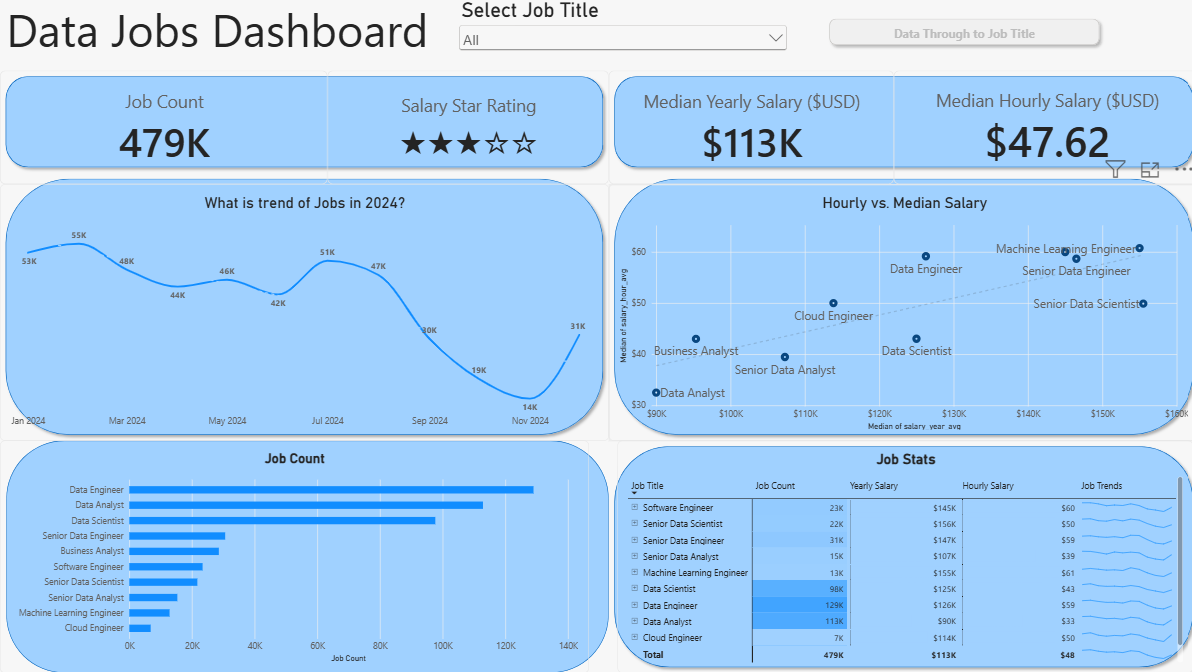

This screenshot's page, from the dashboard's own definition file:
{"tool":"powerbi","page":{"name":"Data Jobs Dashboard","canvas":[1920,1080],"ordinal":0},"visuals":[{"type":"shape","box":[0,116,974,164],"z":0,"group":"g1"},{"type":"group","id":"g1","title":"Background","box":[0,116,1920,964],"z":0},{"type":"textbox","box":[10,0,720,116],"z":1000},{"type":"shape","box":[974,116,946,164],"z":1000,"group":"g1"},{"type":"slicer","fields":{"Values":["job_postings_flat.job_title_short"]},"box":[730,0,534,86],"z":2000},{"type":"shape","box":[0,280,974,428],"z":2000,"group":"g1"},{"type":"cardVisual","fields":{"Data":["Median(job_postings_flat.salary_year_avg)"]},"box":[974,116,456,182],"z":3000},{"type":"shape","box":[974,280,946,428],"z":3000,"group":"g1"},{"type":"cardVisual","fields":{"Data":["Median(job_postings_flat.salary_hour_avg)"]},"box":[1430,116,490,182],"z":4000},{"type":"shape","box":[10,708,964,372],"z":4000,"group":"g1"},{"type":"cardVisual","fields":{"Data":["job_postings_flat.Salary Star Rating"]},"box":[524,116,450,182],"z":5000},{"type":"shape","box":[974,708,946,372],"z":5000,"group":"g1"},{"type":"cardVisual","fields":{"Data":["CountNonNull(job_postings_flat.job_title_short)"]},"box":[0,116,524,182],"z":6000},{"type":"lineChart","title":"What is trend of Jobs in 2024?","fields":{"Category":["job_postings_flat.job_posted_date.Variation.Date Hierarchy.Year","job_postings_flat.job_posted_date.Variation.Date Hierarchy.Quarter","job_postings_flat.job_posted_date.Variation.Date Hierarchy.Month","job_postings_flat.job_posted_date.Variation.Date Hierarchy.Day"],"Y":["CountNonNull(job_postings_flat.job_title_short)"]},"box":[0,298,974,410],"z":7000},{"type":"barChart","title":"Job Count","fields":{"Category":["job_postings_flat.job_title_short"],"Y":["CountNonNull(job_postings_flat.job_title_short)"]},"box":[0,708,942,372],"z":8000},{"type":"scatterChart","title":"Hourly vs. Median Salary","fields":{"Series":["job_postings_flat.job_title_short"],"X":["Median(job_postings_flat.salary_year_avg)"],"Y":["Median(job_postings_flat.salary_hour_avg)"]},"box":[974,298,946,410],"z":9000},{"type":"pivotTable","title":"Job Stats","fields":{"Rows":["job_postings_flat.job_title_short","job_postings_flat.job_posted_date.Variation.Date Hierarchy.Quarter"],"Values":["CountNonNull(job_postings_flat.job_title_short)","Median(job_postings_flat.salary_year_avg)","Median(job_postings_flat.salary_hour_avg)","SparklineData(CountNonNull(job_postings_flat.job_title_short)_[job_postings_flat.job_posted_date.Variation.Date Hierarch"]},"box":[988,708,922,372],"z":10000},{"type":"actionButton","box":[1318,24,450,60],"z":11000}]}

Visuals, with their boxes in screenshot pixels (x1, y1, x2, y2), scaled from the page's 1920x1080 canvas onto the 1192x672 screenshot:
shape: left=0, top=72, right=605, bottom=174
"Background" group: left=0, top=72, right=1191, bottom=671
textbox: left=6, top=0, right=453, bottom=72
shape: left=605, top=72, right=1191, bottom=174
slicer - job_postings_flat.job_title_short: left=453, top=0, right=785, bottom=54
shape: left=0, top=174, right=605, bottom=441
cardVisual - Median(job_postings_flat.salary_year_avg): left=605, top=72, right=888, bottom=185
shape: left=605, top=174, right=1191, bottom=441
cardVisual - Median(job_postings_flat.salary_hour_avg): left=888, top=72, right=1191, bottom=185
shape: left=6, top=441, right=605, bottom=671
cardVisual - job_postings_flat.Salary Star Rating: left=325, top=72, right=605, bottom=185
shape: left=605, top=441, right=1191, bottom=671
cardVisual - CountNonNull(job_postings_flat.job_title_short): left=0, top=72, right=325, bottom=185
"What is trend of Jobs in 2024?" lineChart: left=0, top=185, right=605, bottom=441
"Job Count" barChart: left=0, top=441, right=585, bottom=671
"Hourly vs. Median Salary" scatterChart: left=605, top=185, right=1191, bottom=441
"Job Stats" pivotTable: left=613, top=441, right=1186, bottom=671
actionButton: left=818, top=15, right=1098, bottom=52
